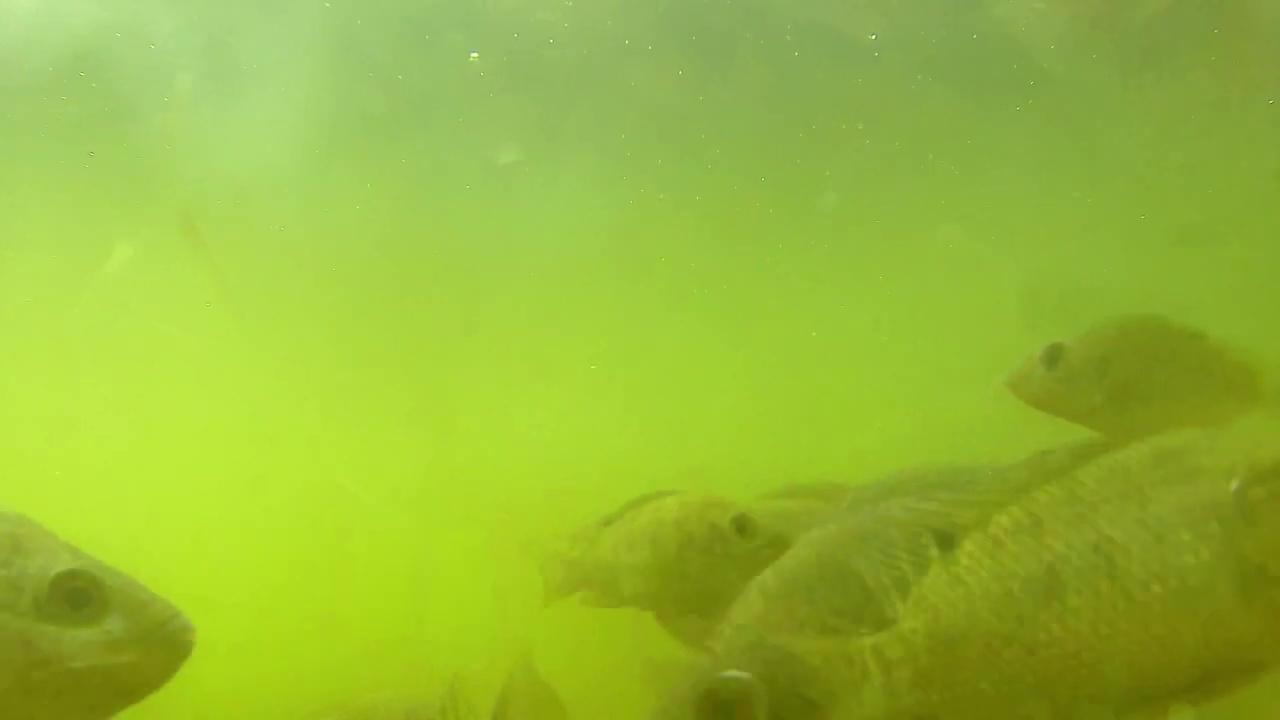Tilapia: (751, 384, 1280, 720), (1005, 268, 1254, 466), (5, 484, 211, 720), (535, 464, 790, 622)
